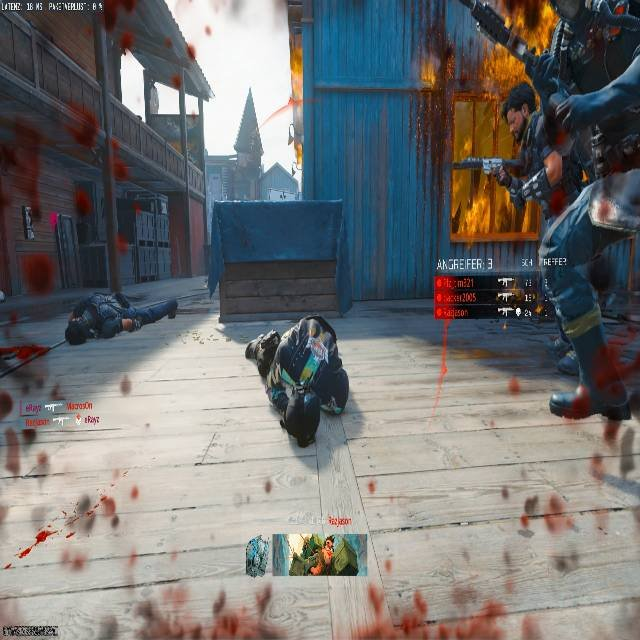head: (277, 315, 339, 384), (244, 331, 280, 374), (65, 321, 87, 345)
player: (492, 2, 639, 450)
